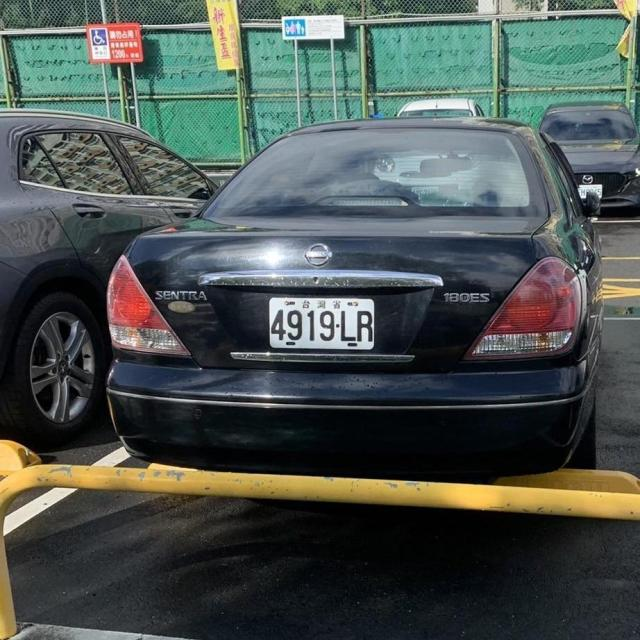W: (258, 280, 383, 361)
